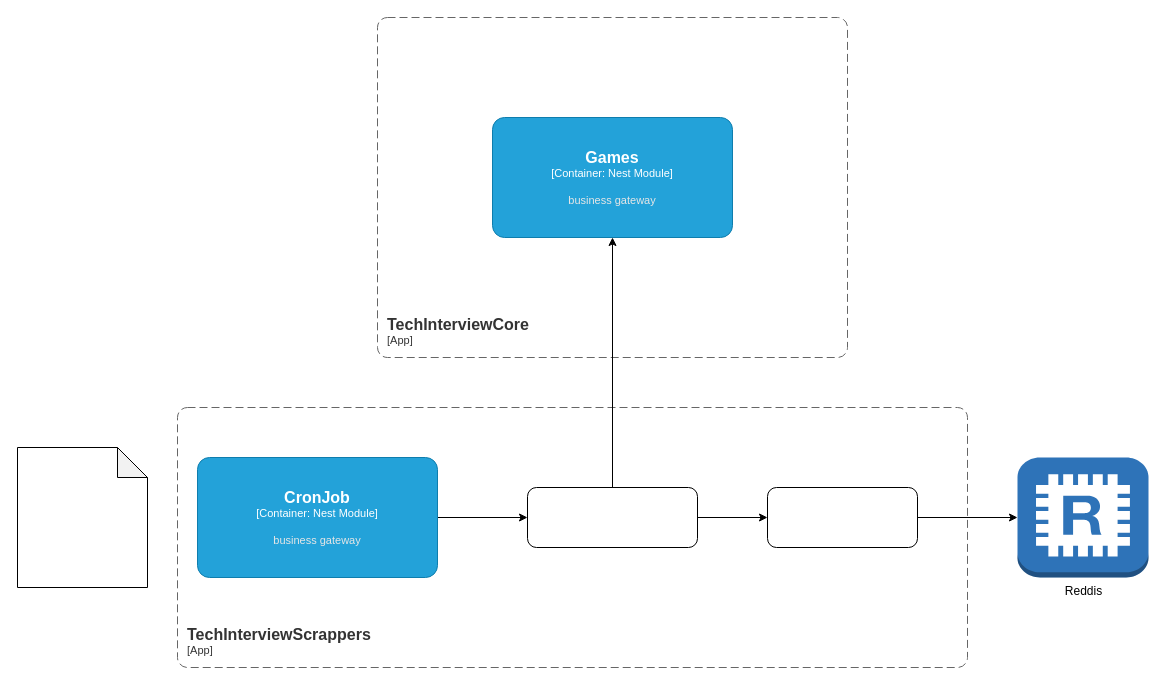
Some shapes in this 1166 by 685 pixel diagram are drawn without their labels. The centre of each missing label's shape, as x and y in pixels:
"CronJob inicia todos los dias a la 1am" goes at point (82, 517).
"getMatchesOfTheDay" goes at point (612, 517).
"setGamesOnRedis" goes at point (842, 517).
